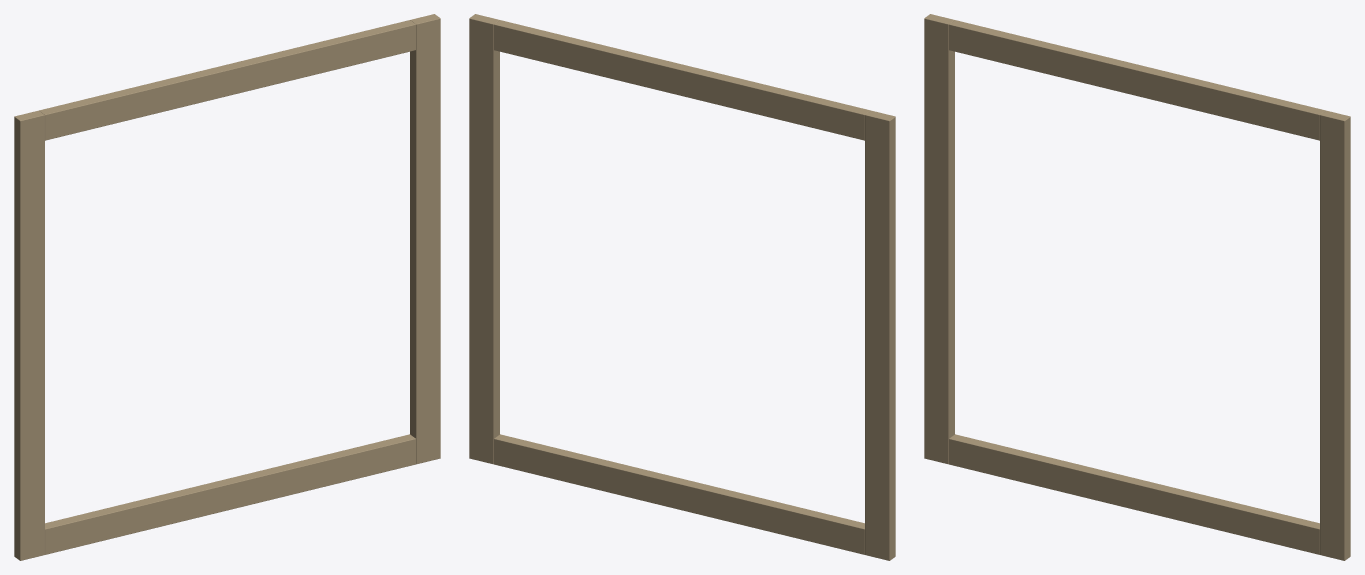
File: MH_Window_Trim_1p2m.fbx
3 renders of one model, left to right at view 1: azimuth 30°, elevation 25°; view 2: azimuth 150°, elevation 25°; view 3: azimuth 330°, elevation 25°, orthographic.
Visible parts, largest first — view 1: Body; view 2: Body; view 3: Body.
Part boxes in pixels (x1=…): Body: x1=14, y1=14, x2=440, y2=560; Body: x1=469, y1=14, x2=895, y2=560; Body: x1=924, y1=14, x2=1350, y2=560.
Bounding box in the file's own units: 1.36 × 1.36 × 0.035.
